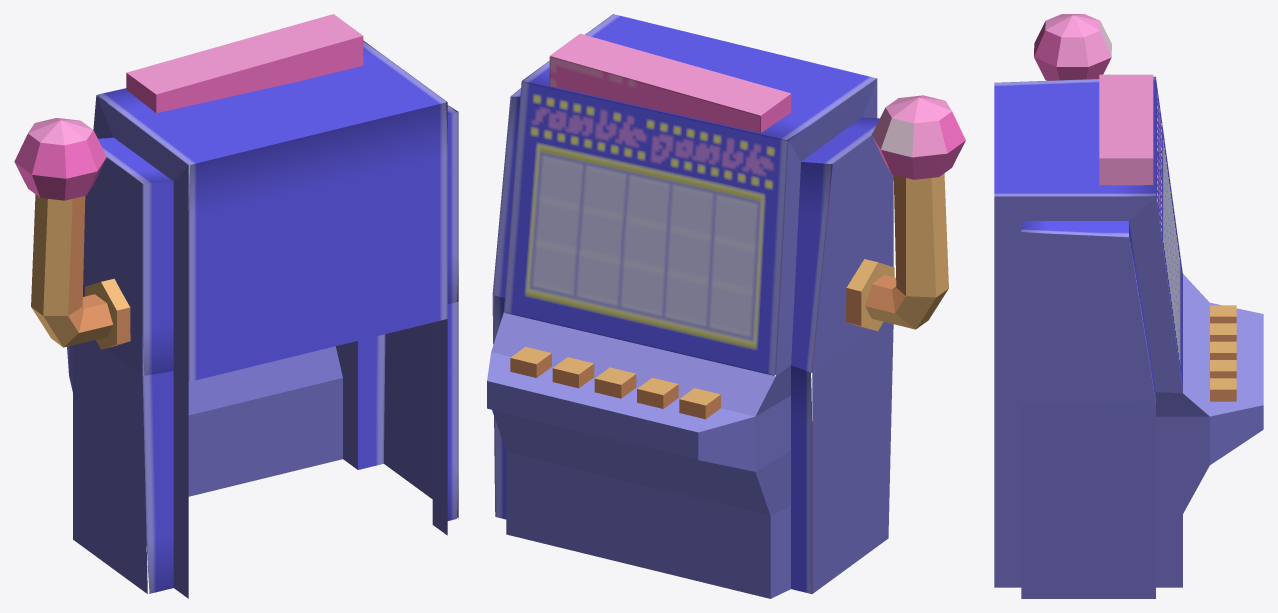
Rendered from rg_slots.fbx.
3 renders of one model, left to right at view 1: azimuth 30°, elevation 25°; view 2: azimuth 150°, elevation 25°; view 3: azimuth 270°, elevation 25°, orthographic. The views are drawn at different scales.
Parts seen in each view (by area): view 1: machine, arm; view 2: machine, arm, button2, button3, button4, button1, button5; view 3: machine, arm, button1, button3, button2, button4, button5.
Boxes of the visible parts, x1=… form: machine: x1=67, y1=14, x2=458, y2=598; arm: x1=14, y1=118, x2=130, y2=349; machine: x1=487, y1=14, x2=893, y2=598; arm: x1=845, y1=95, x2=965, y2=331; button2: x1=552, y1=357, x2=594, y2=388; button3: x1=594, y1=367, x2=636, y2=398; button4: x1=637, y1=377, x2=678, y2=408; button1: x1=510, y1=346, x2=551, y2=377; button5: x1=679, y1=388, x2=720, y2=419; machine: x1=994, y1=74, x2=1263, y2=598; arm: x1=1034, y1=14, x2=1111, y2=233; button1: x1=1210, y1=378, x2=1236, y2=401; button3: x1=1210, y1=341, x2=1236, y2=359; button2: x1=1210, y1=360, x2=1236, y2=378; button4: x1=1210, y1=323, x2=1236, y2=341; button5: x1=1210, y1=305, x2=1236, y2=323.
Bounding box in the file's own units: 1580 × 1724 × 1000.
1 material, 1 textured.
